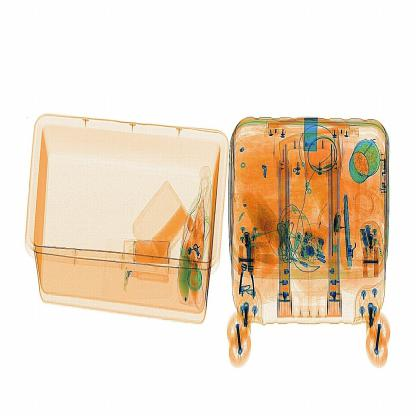pliers: (341, 191, 358, 276)
